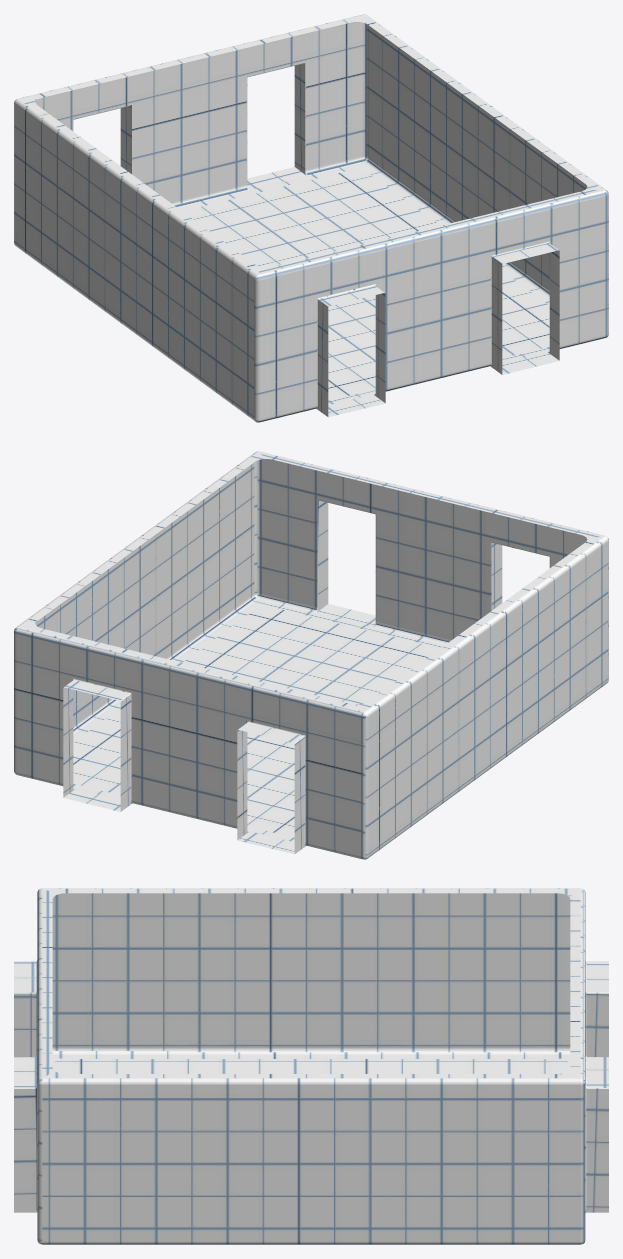
Rendered from QuadRoom.fbx.
3 renders of one model, top to bottom at view 1: azimuth 30°, elevation 25°; view 2: azimuth 150°, elevation 25°; view 3: azimuth 270°, elevation 25°, orthographic. The views are drawn at different scales.
Parts seen in each view (by area): view 1: Room.Door-hiding-panel.035, Room.Door-hiding-panel.001, Room.008-CutoutDoor.001, Room.Door-hiding-panel.002; view 2: Room.Door-hiding-panel.035, Room.Door-hiding-panel.001, Room.008-CutoutDoor.001, Room.Door-hiding-panel.002; view 3: Room.Door-hiding-panel.035, Room.008-CutoutDoor.001, Room.Door-hiding-panel.002, Room.Door-hiding-panel.001.
Part boxes in pixels (x1,y1,x2,y2): Room.Door-hiding-panel.035: (14,14,608,422); Room.Door-hiding-panel.001: (183,169,549,400); Room.008-CutoutDoor.001: (72,62,559,417); Room.Door-hiding-panel.002: (18,14,604,274); Room.Door-hiding-panel.035: (14,451,608,859); Room.Door-hiding-panel.001: (73,606,439,837); Room.008-CutoutDoor.001: (63,499,550,854); Room.Door-hiding-panel.002: (18,451,604,711); Room.Door-hiding-panel.035: (37,888,585,1244); Room.008-CutoutDoor.001: (14,960,608,1212); Room.Door-hiding-panel.002: (42,888,580,1078); Room.Door-hiding-panel.001: (52,1059,570,1073).
Size of what is drawn, in the model's own units: 7.13 by 2.84 by 9.25.
